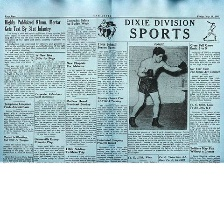news_paper: (0, 0, 224, 165)
